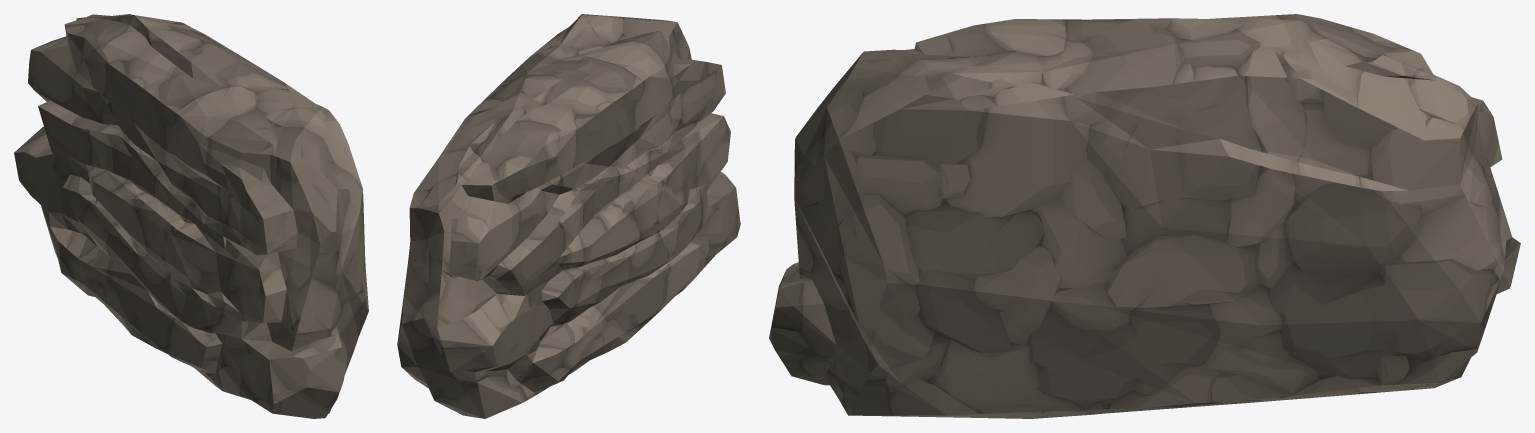
3 renders of one model, left to right at view 1: azimuth 30°, elevation 25°; view 2: azimuth 150°, elevation 25°; view 3: azimuth 270°, elevation 25°, orthographic. The views are drawn at different scales.
Parts seen in each view (by area): view 1: SM_Rock_Wall_01; view 2: SM_Rock_Wall_01; view 3: SM_Rock_Wall_01.
Boxes of the visible parts, x1,y1,x2,y2 form: SM_Rock_Wall_01: (14, 14, 368, 418); SM_Rock_Wall_01: (397, 14, 740, 418); SM_Rock_Wall_01: (769, 14, 1520, 418).
Size of the model in its own units: 1.32 by 2.61 by 4.64.
Materials: 1 (1 with a texture image).
